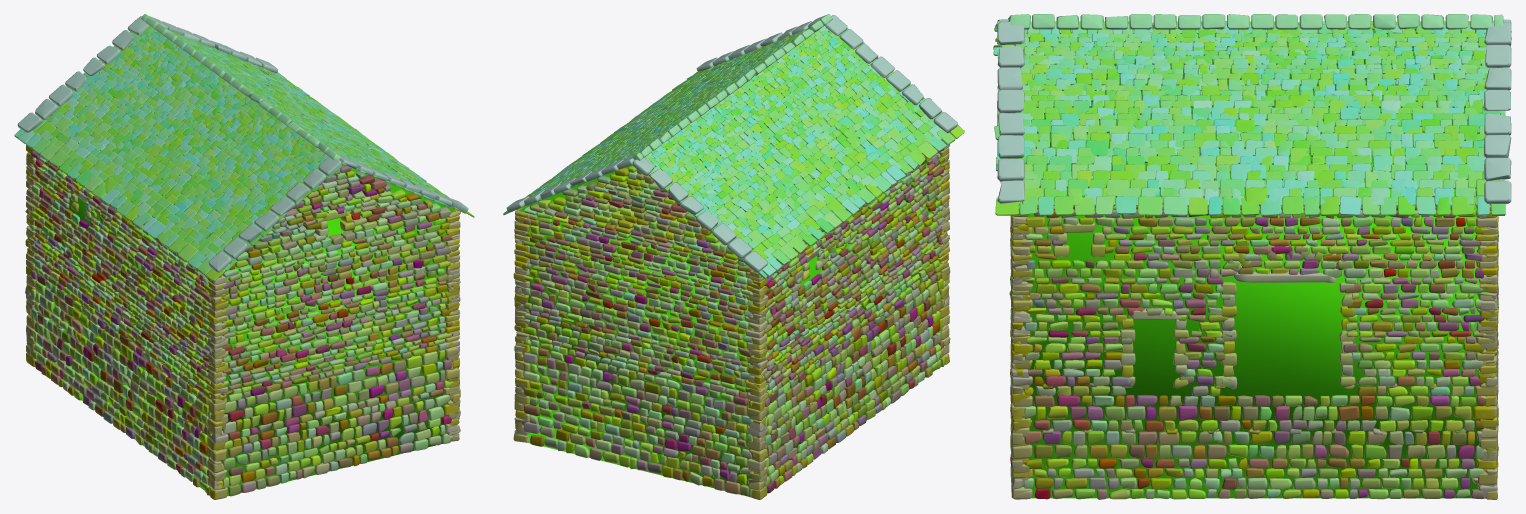
Rendered from SM_Barn_06.glb.
3 views of the same model, side by side, from view 1: azimuth 30°, elevation 25°; view 2: azimuth 150°, elevation 25°; view 3: azimuth 270°, elevation 25° (orthographic). The views are drawn at different scales.
Visible parts, largest first — view 1: SM_Barn_06; view 2: SM_Barn_06; view 3: SM_Barn_06.
Part boxes in pixels (x1,y1,x2,y2): SM_Barn_06: [14, 14, 474, 499]; SM_Barn_06: [503, 14, 964, 499]; SM_Barn_06: [993, 14, 1511, 499].
Bounding box in the file's own units: 9.61 × 11.11 × 12.78.
